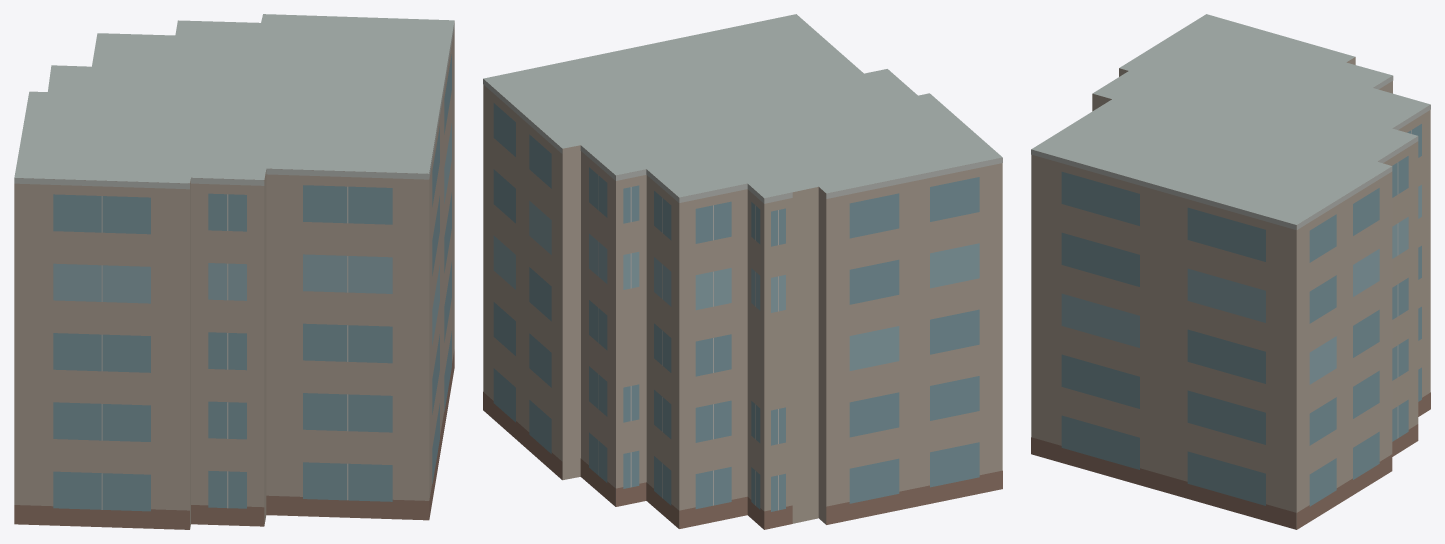
The model's file is survey-upis-32758732.glb.
The picture shows the model from 3 angles, left to right: view 1: azimuth 30°, elevation 25°; view 2: azimuth 150°, elevation 25°; view 3: azimuth 270°, elevation 25°; orthographic projection. The views are drawn at different scales.
Parts seen in each view (by area): view 1: survey-upis-32758732.tmp; view 2: survey-upis-32758732.tmp; view 3: survey-upis-32758732.tmp.
Part boxes in pixels (x1,y1,x2,y2): survey-upis-32758732.tmp: (14, 14, 454, 529); survey-upis-32758732.tmp: (483, 14, 1002, 529); survey-upis-32758732.tmp: (1031, 14, 1430, 529).
Size of the model in its own units: 21.54 by 14.5 by 17.24.
